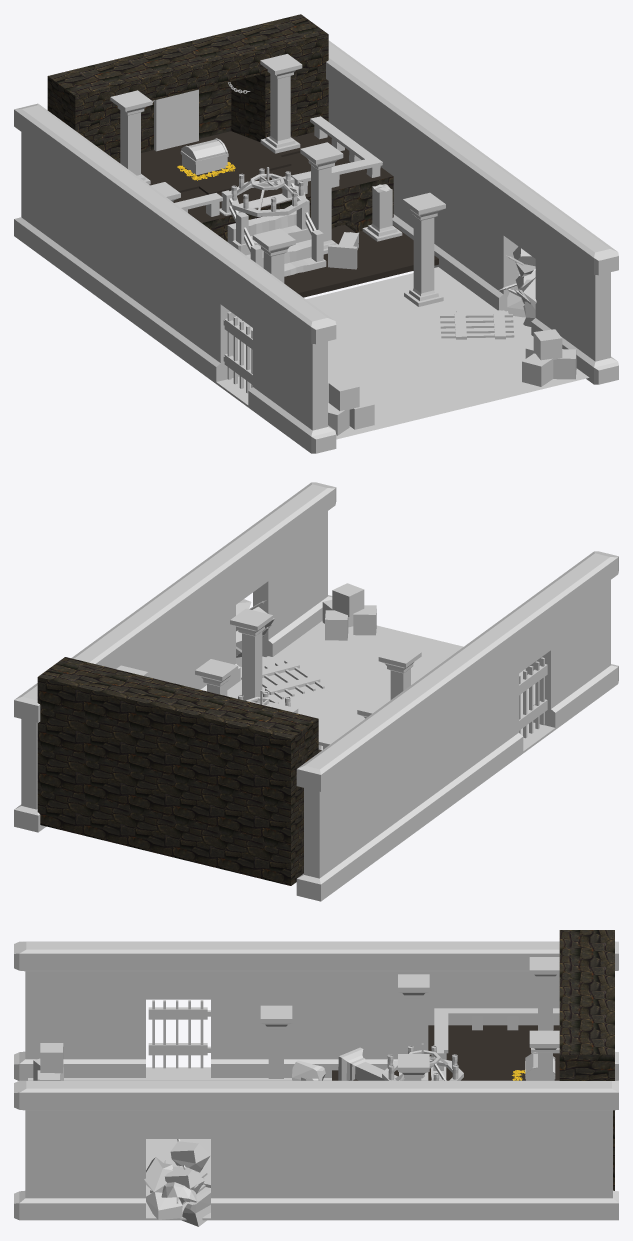
The model's file is Projeto.fbx.
3 renders of one model, top to bottom at view 1: azimuth 30°, elevation 25°; view 2: azimuth 150°, elevation 25°; view 3: azimuth 270°, elevation 25°, orthographic.
Visible parts, largest first — view 1: left wall, skeleton hq, right wall, Arena, staircase, pilar6, i dont remember the name of this one, pilar1, crates 2, treasure door, (broken) pilar, pilar4 (+8 smaller); view 2: skeleton hq, left wall, right wall, Arena, crates 2, pilar6, gate, (fallen) gate, pilar5, pilar4; view 3: right wall, left wall, skeleton hq, wreckage, gate, i dont remember the name of this one, Arena, pilar3, pilar5, pilar2, (fallen) pilar, pilar1 (+5 smaller).
Boxes of the visible parts, x1,y1,x2,y2 form: left wall: (14,103,336,453); skeleton hq: (47,14,438,297); right wall: (326,40,618,384); Arena: (238,267,589,439); staircase: (219,176,326,276); pilar6: (402,192,445,306); i dont remember the name of this one: (174,116,382,216); pilar1: (260,54,302,153); crates 2: (522,329,576,386); treasure door: (154,89,198,151); (broken) pilar: (328,184,402,269); pilar4: (300,142,343,254); skeleton hq: (37,657,321,885); left wall: (296,551,618,901); right wall: (14,482,336,832); Arena: (227,621,535,750); crates 2: (322,583,376,640); pilar6: (230,608,273,703); gate: (519,657,547,738); (fallen) gate: (241,660,324,699); pilar5: (378,645,421,699); pilar4: (195,659,238,696); right wall: (14,1080,618,1220); left wall: (14,941,618,1080); skeleton hq: (332,930,614,1190); wreckage: (144,1139,210,1226); gate: (148,1000,210,1068); i dont remember the name of this one: (434,1008,559,1059); Arena: (28,1078,331,1206); pilar3: (398,974,429,1076); pilar5: (260,1005,292,1078); pilar2: (529,957,559,1053); (fallen) pilar: (338,1047,399,1080); pilar1: (529,1030,559,1080).
Bounding box in the file's own units: 1912 × 884 × 3068.
